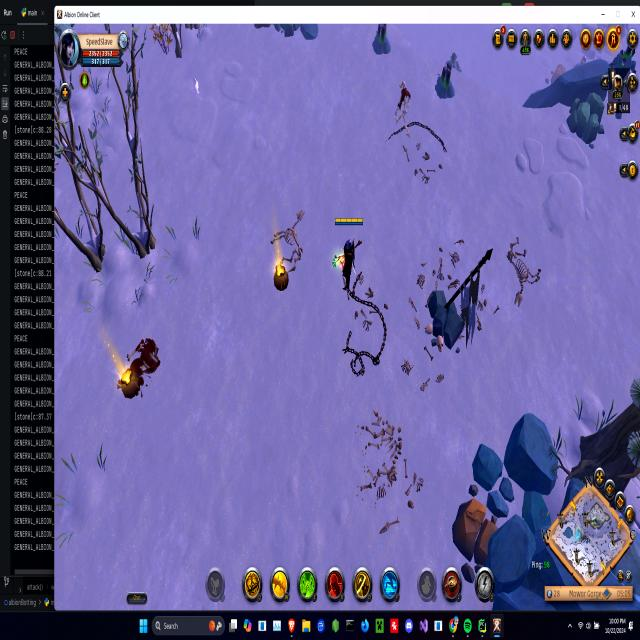ore: (392, 79, 413, 128)
player: (433, 52, 462, 104), (368, 24, 394, 58)
red: (329, 211, 368, 310)
tree: (452, 494, 492, 564), (564, 89, 606, 149)
